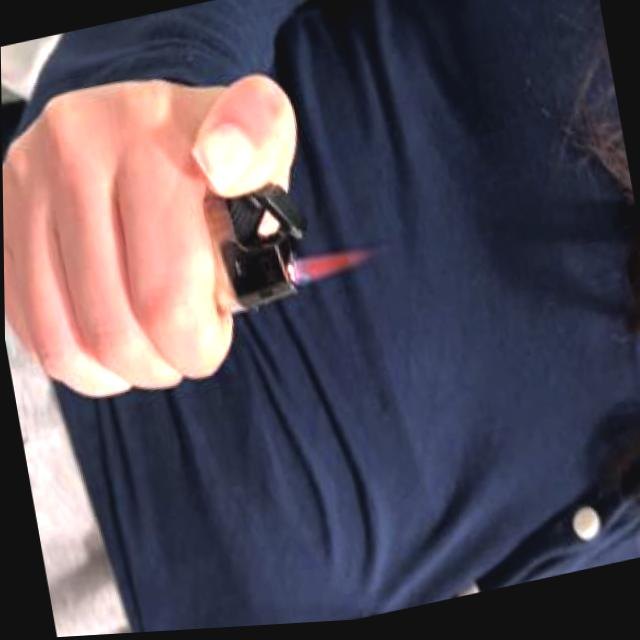fire: (289, 246, 369, 292)
